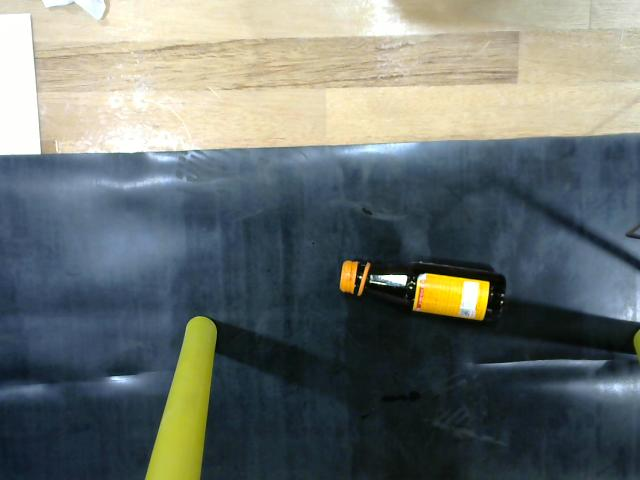glass: (336, 254, 508, 328)
